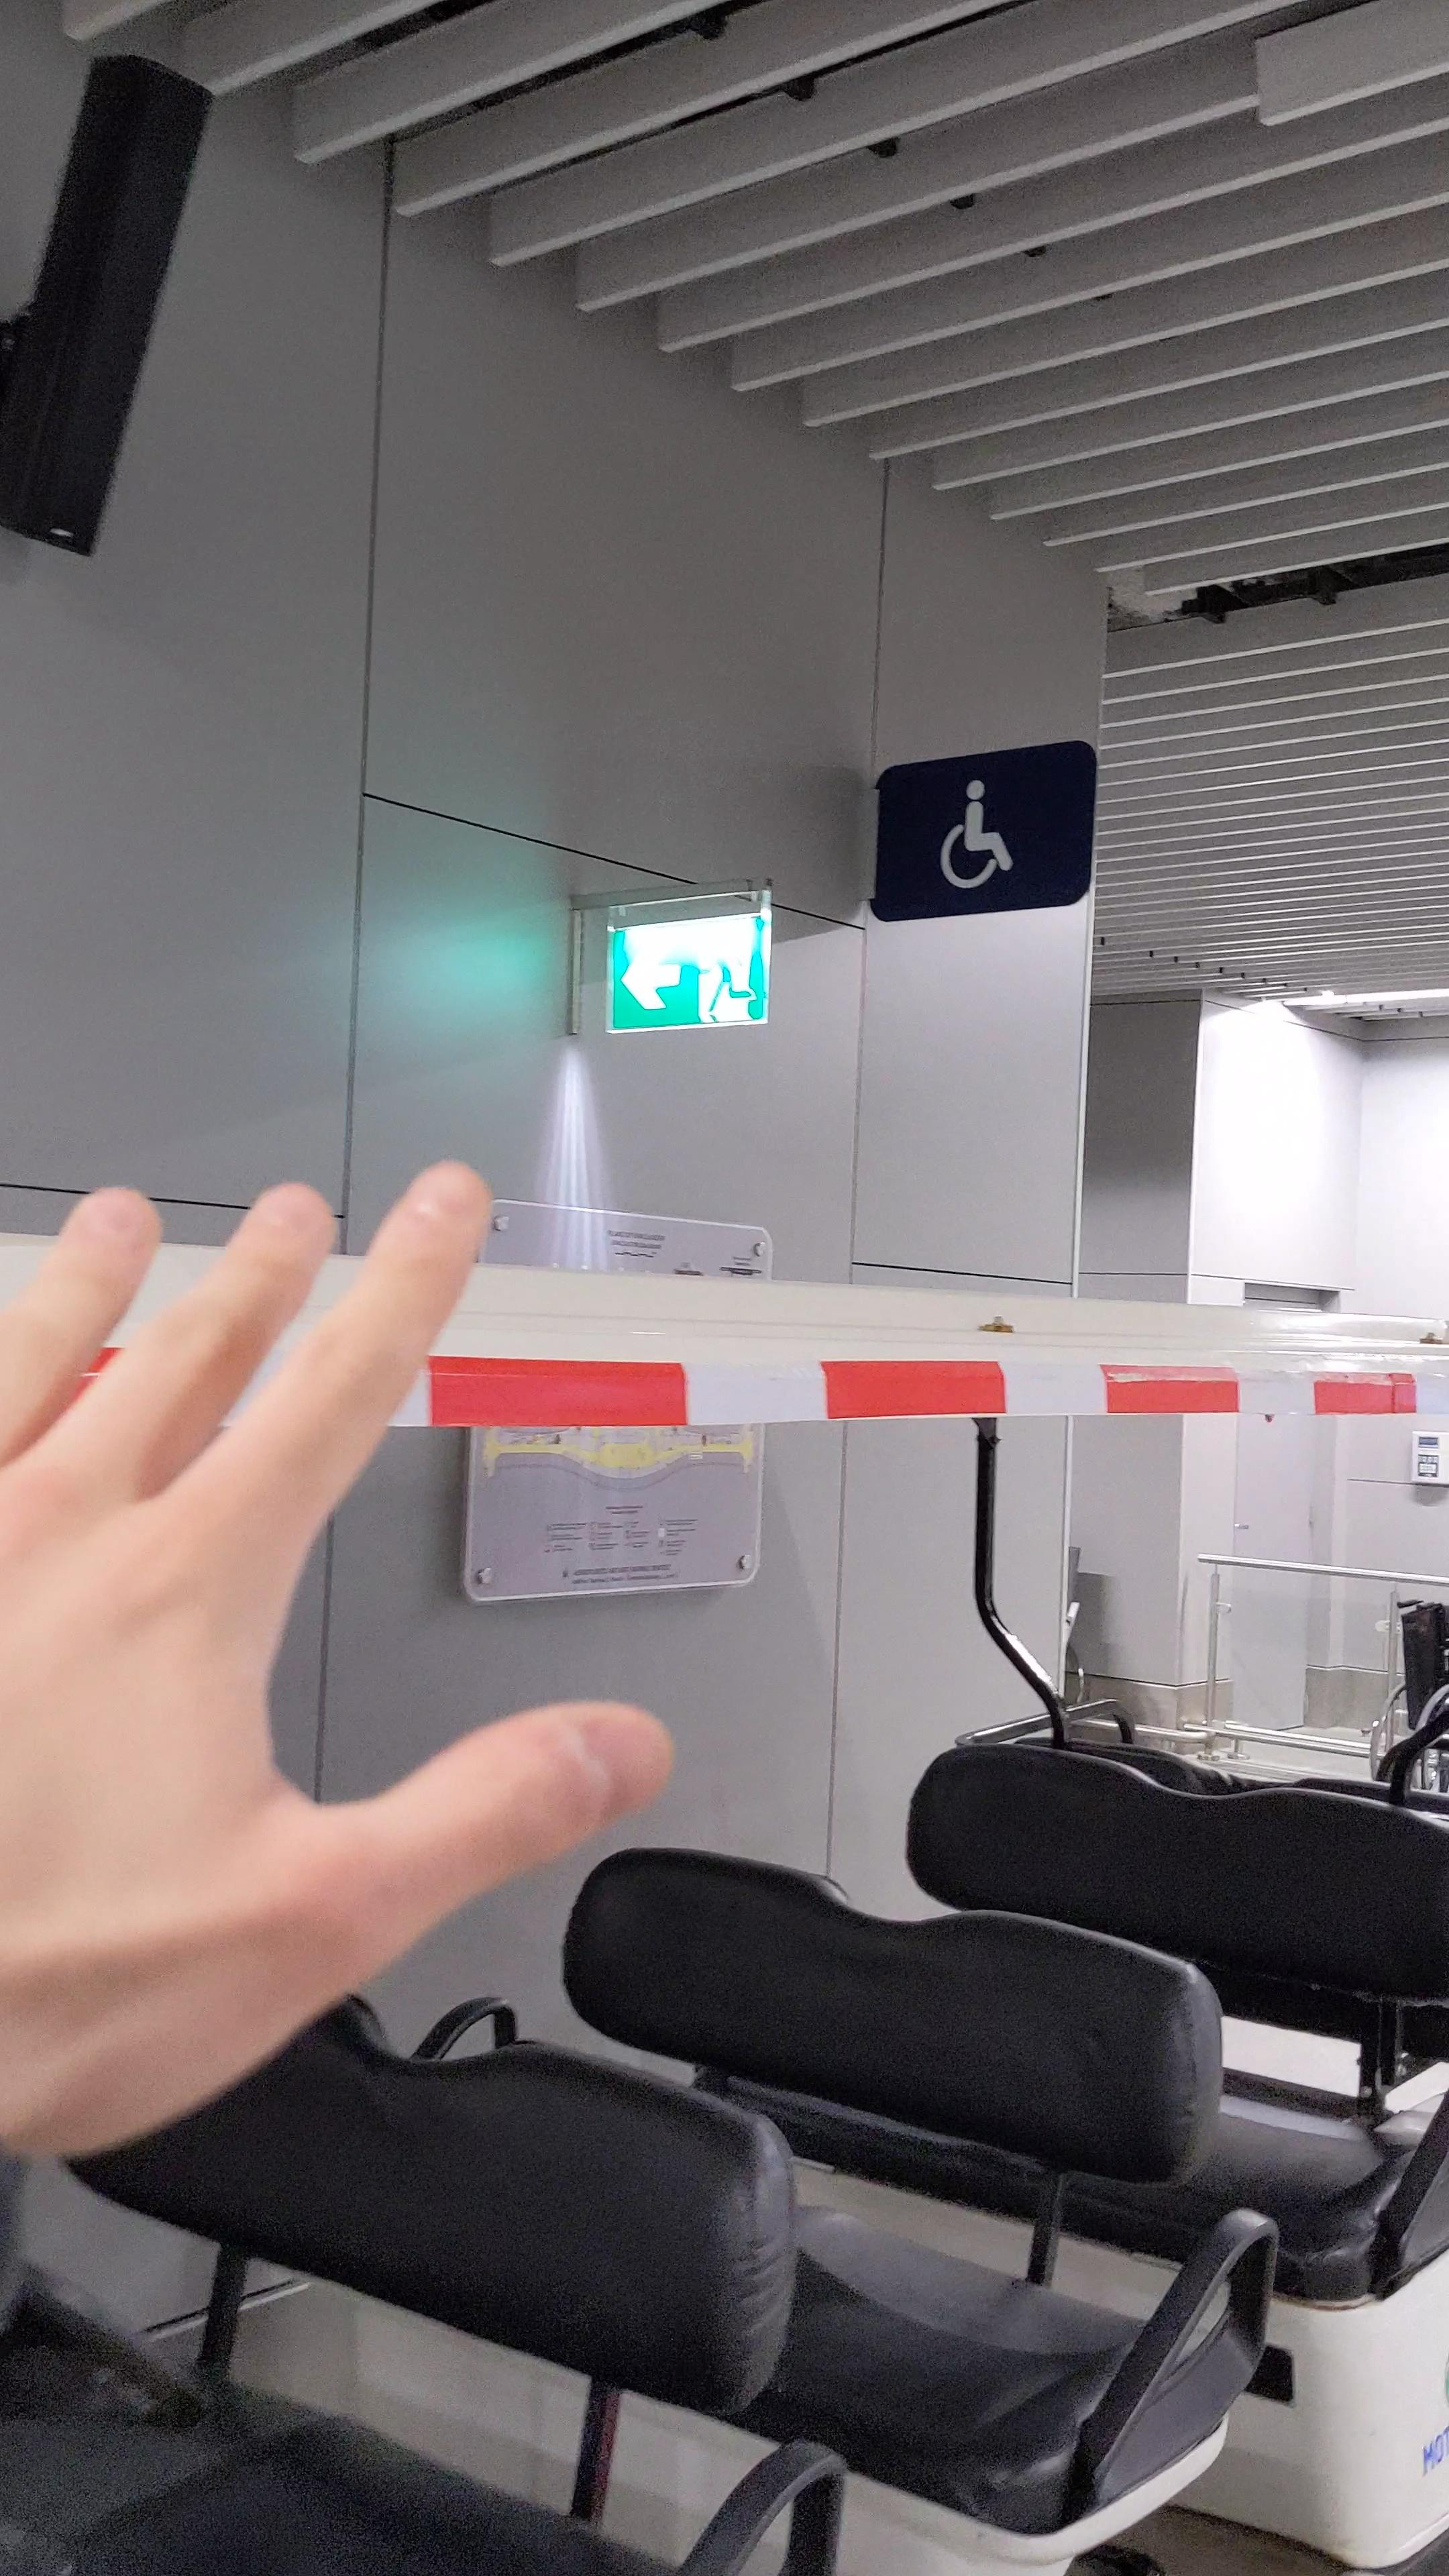emergency exit: (694, 922, 759, 1023)
emergency left arrow: (616, 934, 688, 1023)
handicapped symbol: (929, 778, 1026, 893)
